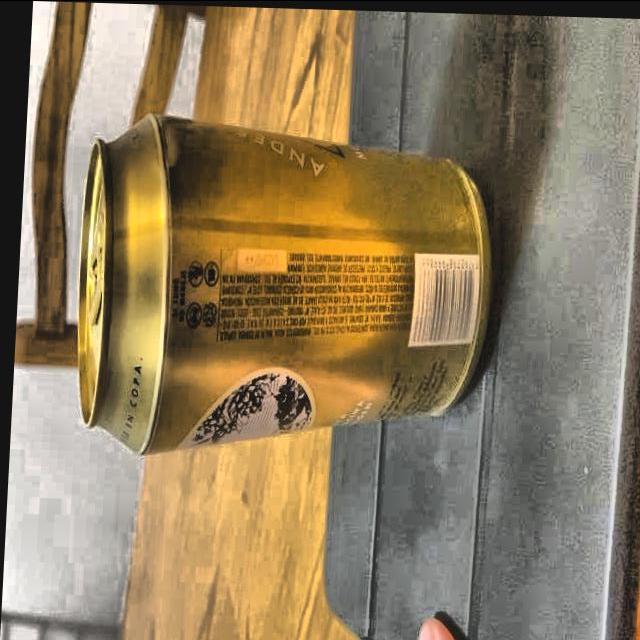litter: (59, 103, 502, 462)
